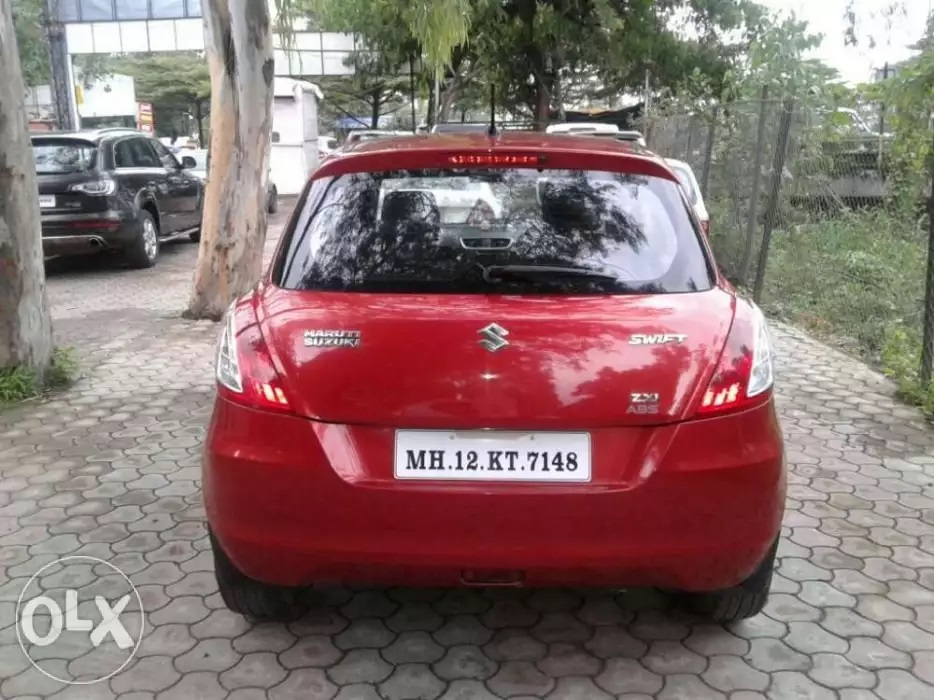licenseplate: (394, 426, 598, 484)
